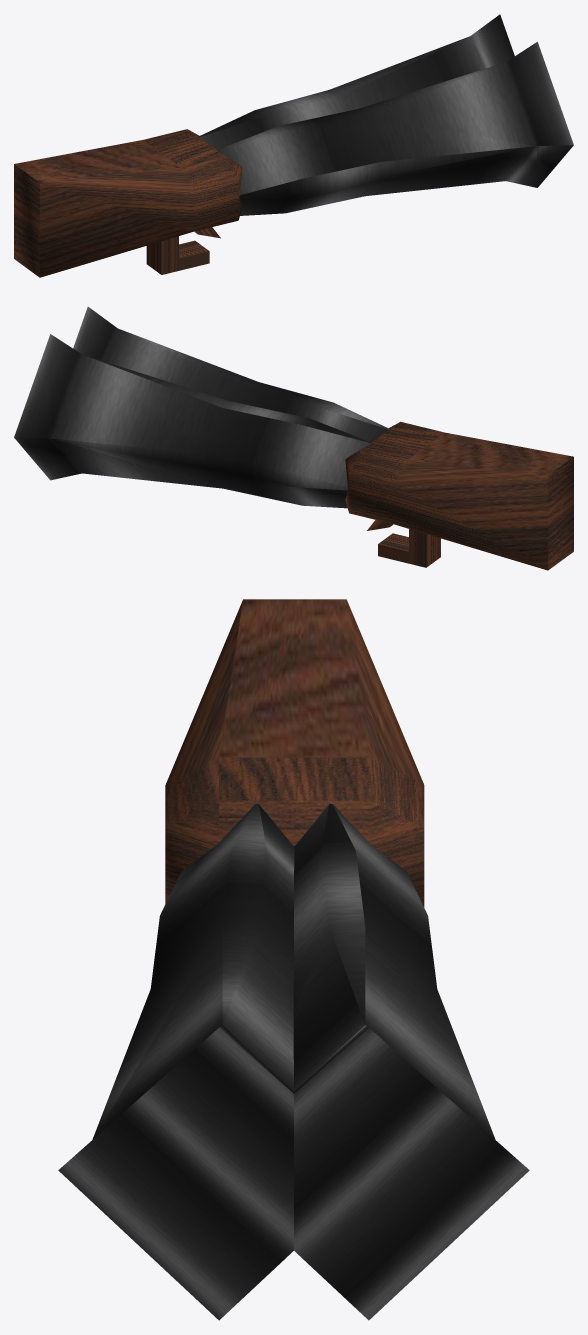
The model's file is blunger.obj.
3 views of the same model, one above another, from view 1: azimuth 30°, elevation 25°; view 2: azimuth 150°, elevation 25°; view 3: azimuth 270°, elevation 25° (orthographic). The views are drawn at different scales.
Visible parts, largest first — view 1: Group; view 2: Group; view 3: Group.
Boxes of the visible parts, x1,y1,x2,y2 form: Group: (14,14,573,277); Group: (14,307,573,570); Group: (58,599,529,1320).
Size of the model in its own units: 15.13 by 4.5 by 6.28.
Materials: 1 (1 with a texture image).
